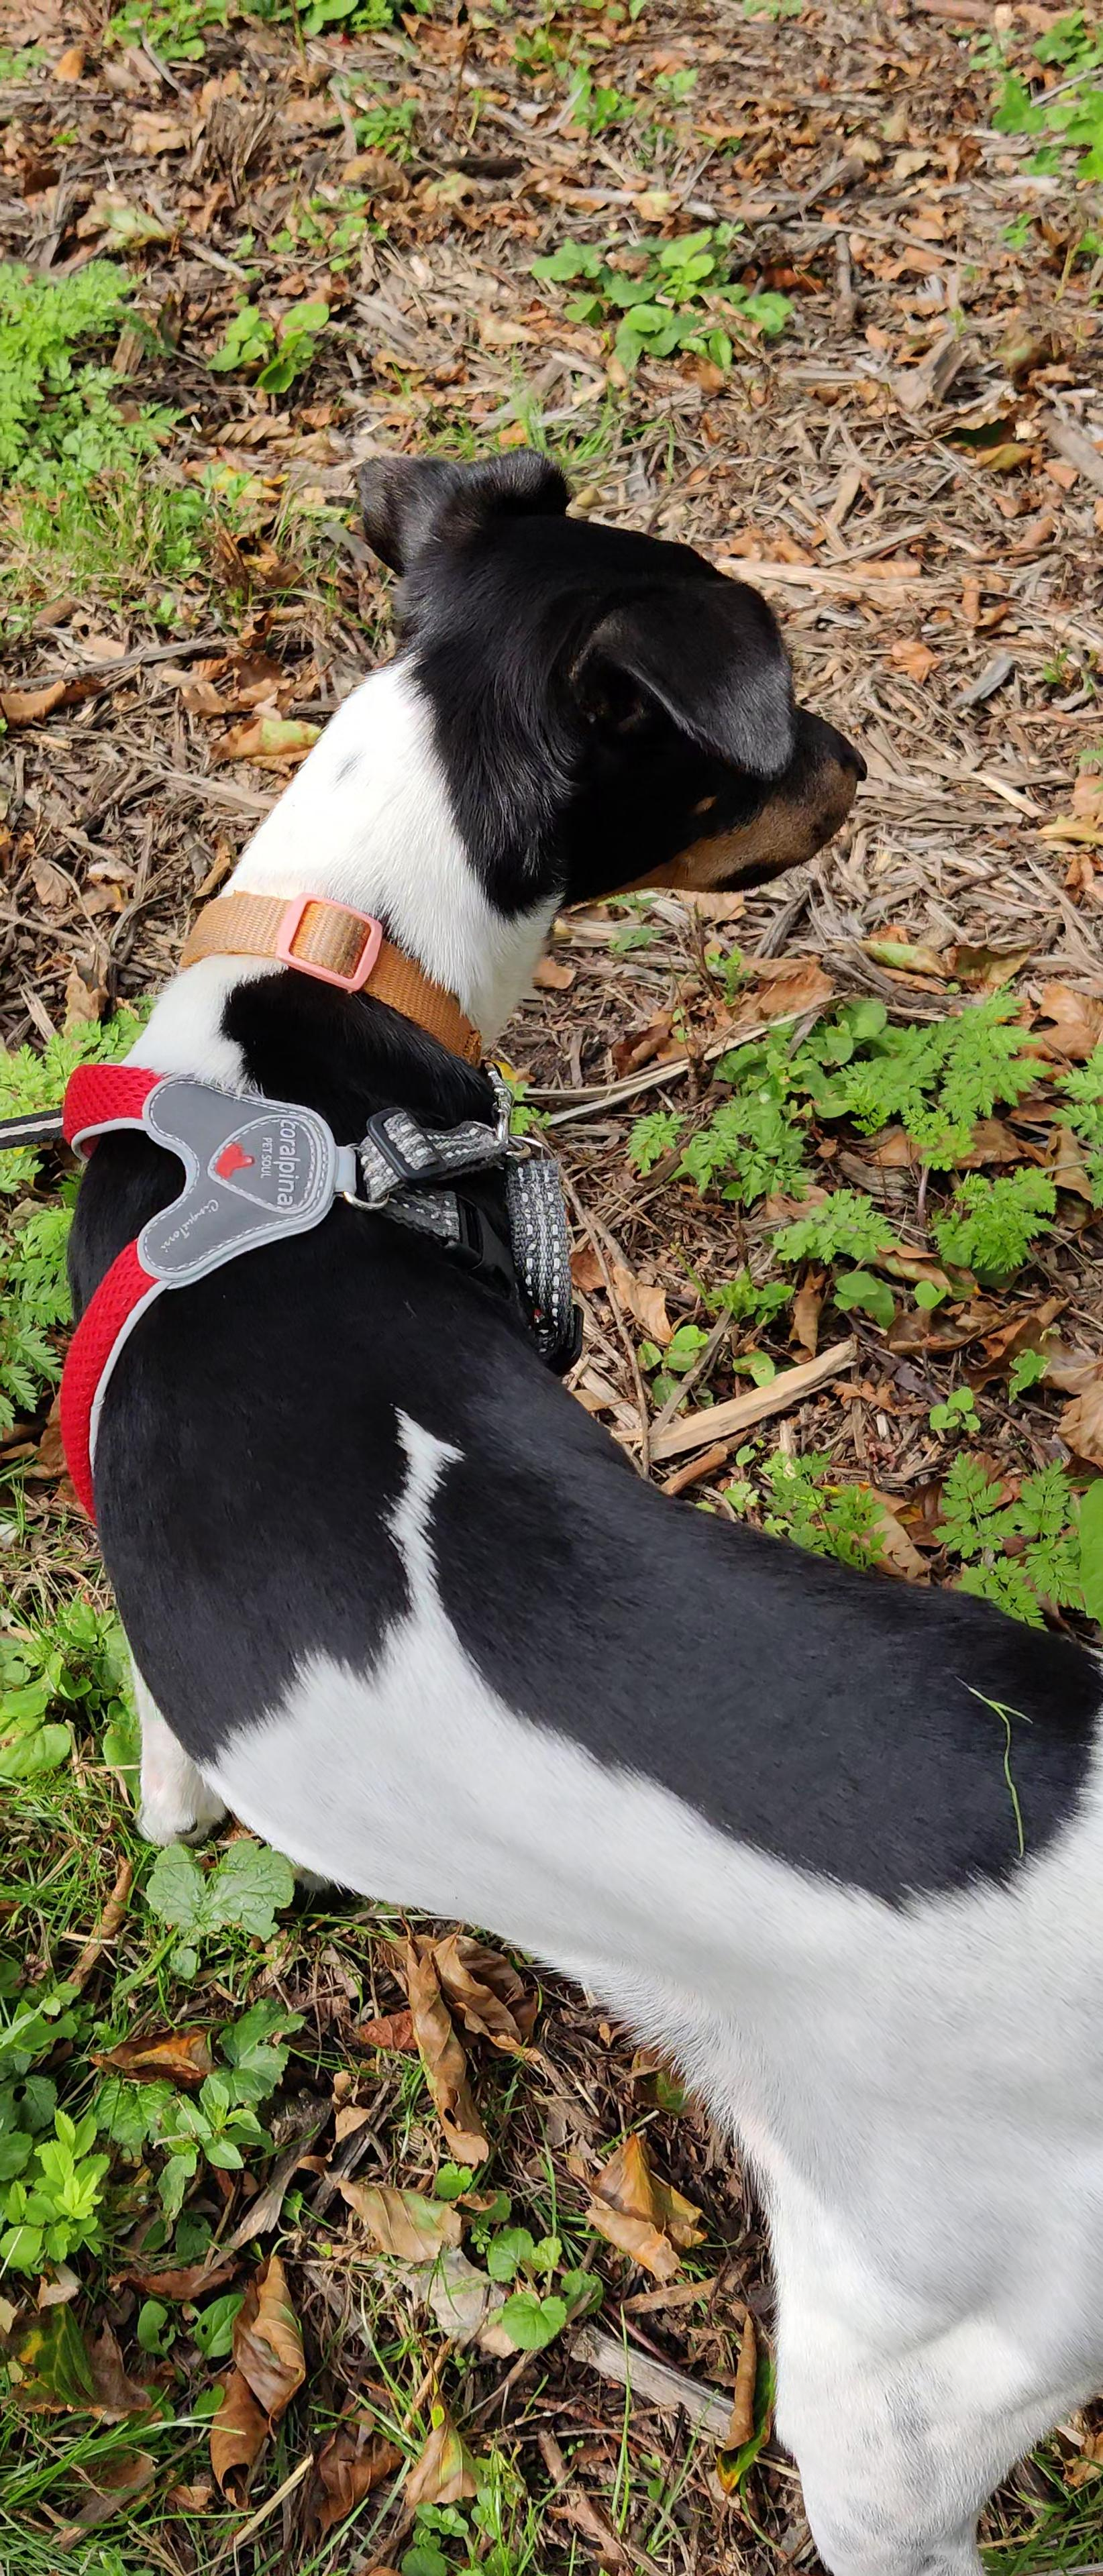Dog: (31, 444, 1103, 2576)
